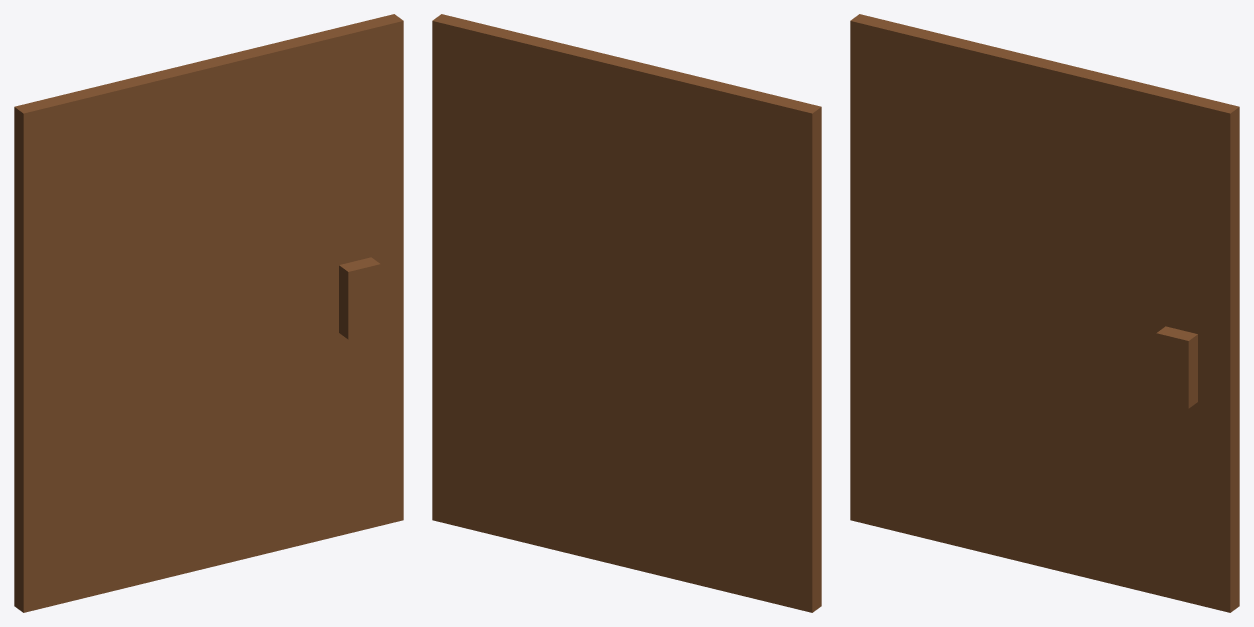
The model's file is door_swing_leaf.glb.
3 renders of one model, left to right at view 1: azimuth 30°, elevation 25°; view 2: azimuth 150°, elevation 25°; view 3: azimuth 330°, elevation 25°, orthographic.
Parts seen in each view (by area): view 1: leaf, handle; view 2: leaf; view 3: leaf, handle.
Boxes of the visible parts, x1,y1,x2,y2 form: leaf: [14, 14, 403, 612]; handle: [339, 257, 380, 339]; leaf: [432, 14, 821, 612]; leaf: [850, 14, 1239, 612]; handle: [1156, 326, 1197, 408].
Size of the model in its own units: 0.7344 by 0.9219 by 0.0625.
1 material, 1 textured.
